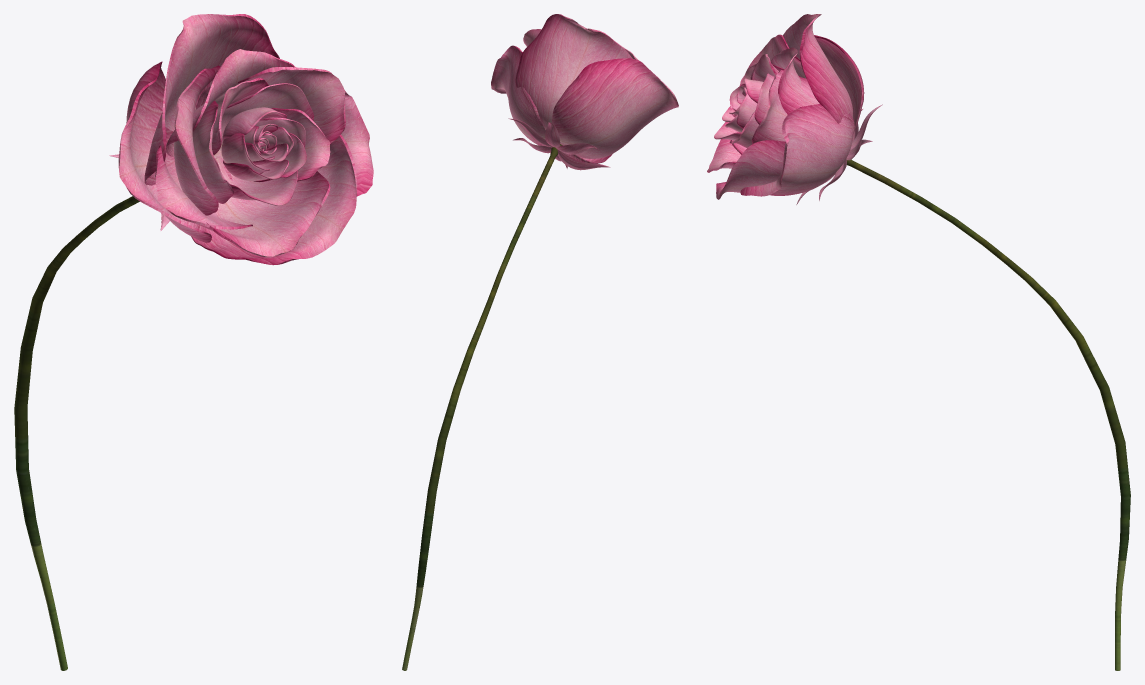
Rendered from rose2.glb.
The picture shows the model from 3 angles, left to right: view 1: azimuth 30°, elevation 25°; view 2: azimuth 150°, elevation 25°; view 3: azimuth 270°, elevation 25°; orthographic projection. The views are drawn at different scales.
Parts seen in each view (by area): view 1: Subdivision_Surface.041, base, Subdivision_Surface.046, Subdivision_Surface.039, Subdivision_Surface.040, Subdivision_Surface.045, Subdivision_Surface.043, Subdivision_Surface.044, Subdivision_Surface.042, Subdivision_Surface.051, Subdivision_Surface.048, Subdivision_Surface.002 (+8 smaller); view 2: Subdivision_Surface.040, Subdivision_Surface.041, base, Subdivision_Surface.002; view 3: Subdivision_Surface.002, base, Subdivision_Surface.041, Subdivision_Surface.039, Subdivision_Surface.040, Subdivision_Surface.044, Subdivision_Surface.045, Subdivision_Surface.046, Subdivision_Surface.043.
Boxes of the visible parts, left/top/right/bottom form: Subdivision_Surface.041: left=144, top=14, right=279, bottom=185; base: left=14, top=196, right=139, bottom=670; Subdivision_Surface.046: left=198, top=158, right=330, bottom=257; Subdivision_Surface.039: left=191, top=134, right=357, bottom=265; Subdivision_Surface.040: left=118, top=61, right=211, bottom=242; Subdivision_Surface.045: left=196, top=67, right=345, bottom=158; Subdivision_Surface.043: left=174, top=65, right=220, bottom=215; Subdivision_Surface.044: left=166, top=49, right=295, bottom=156; Subdivision_Surface.042: left=155, top=127, right=252, bottom=229; Subdivision_Surface.051: left=192, top=100, right=234, bottom=203; Subdivision_Surface.048: left=219, top=83, right=313, bottom=150; Subdivision_Surface.002: left=341, top=90, right=373, bottom=196; Subdivision_Surface.040: left=552, top=58, right=678, bottom=158; Subdivision_Surface.041: left=515, top=14, right=632, bottom=130; base: left=402, top=144, right=562, bottom=670; Subdivision_Surface.002: left=491, top=45, right=545, bottom=145; Subdivision_Surface.002: left=740, top=104, right=854, bottom=196; base: left=847, top=159, right=1130, bottom=670; Subdivision_Surface.041: left=782, top=14, right=852, bottom=123; Subdivision_Surface.039: left=716, top=140, right=785, bottom=199; Subdivision_Surface.040: left=814, top=35, right=864, bottom=130; Subdivision_Surface.044: left=771, top=47, right=819, bottom=114; Subdivision_Surface.045: left=751, top=70, right=816, bottom=143; Subdivision_Surface.046: left=707, top=139, right=741, bottom=172; Subdivision_Surface.043: left=747, top=34, right=806, bottom=78.
Bounding box in the file's own units: 32.45 × 96.67 × 58.63.
2 materials, 2 textured.
